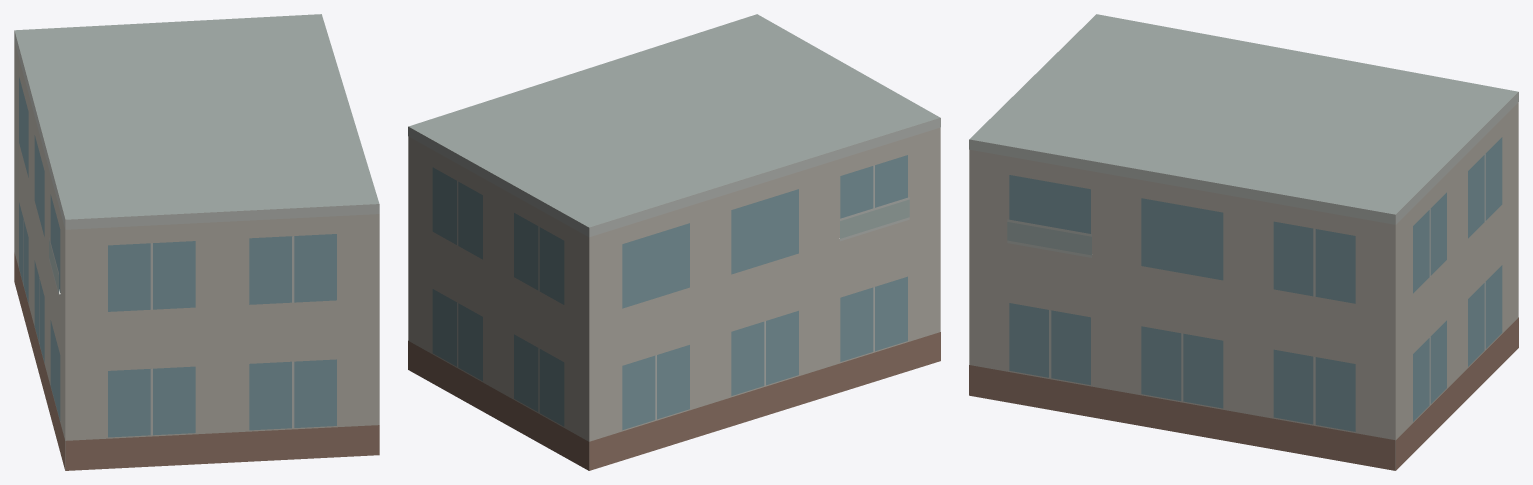
File: survey-upis-33036148.glb
3 renders of one model, left to right at view 1: azimuth 30°, elevation 25°; view 2: azimuth 150°, elevation 25°; view 3: azimuth 270°, elevation 25°, orthographic. The views are drawn at different scales.
Visible parts, largest first — view 1: survey-upis-33036148.tmp; view 2: survey-upis-33036148.tmp; view 3: survey-upis-33036148.tmp.
Boxes of the visible parts, x1,y1,x2,y2 form: survey-upis-33036148.tmp: (14,14,379,470); survey-upis-33036148.tmp: (408,14,940,470); survey-upis-33036148.tmp: (969,14,1518,470).
Size of the model in its own units: 10.25 by 6.1 by 11.87.
